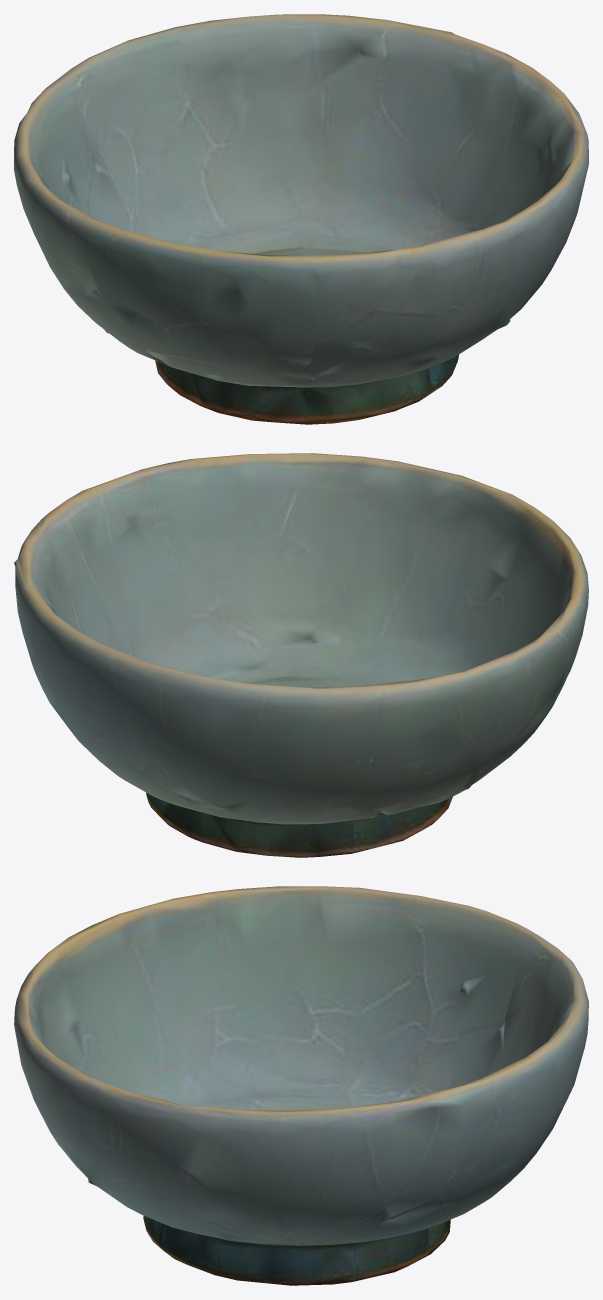
The model's file is bowl_jade.fbx.
3 views of the same model, one above another, from view 1: azimuth 30°, elevation 25°; view 2: azimuth 150°, elevation 25°; view 3: azimuth 270°, elevation 25° (orthographic).
Parts seen in each view (by area): view 1: tripo_node_b9e3aa66-1395-458c-ba15-1611c955ec3c; view 2: tripo_node_b9e3aa66-1395-458c-ba15-1611c955ec3c; view 3: tripo_node_b9e3aa66-1395-458c-ba15-1611c955ec3c.
Boxes of the visible parts, x1,y1,x2,y2 form: tripo_node_b9e3aa66-1395-458c-ba15-1611c955ec3c: (14,14,588,424); tripo_node_b9e3aa66-1395-458c-ba15-1611c955ec3c: (14,453,588,857); tripo_node_b9e3aa66-1395-458c-ba15-1611c955ec3c: (14,886,588,1285).
Size of the model in its own units: 99.58 by 44.38 by 99.84.
